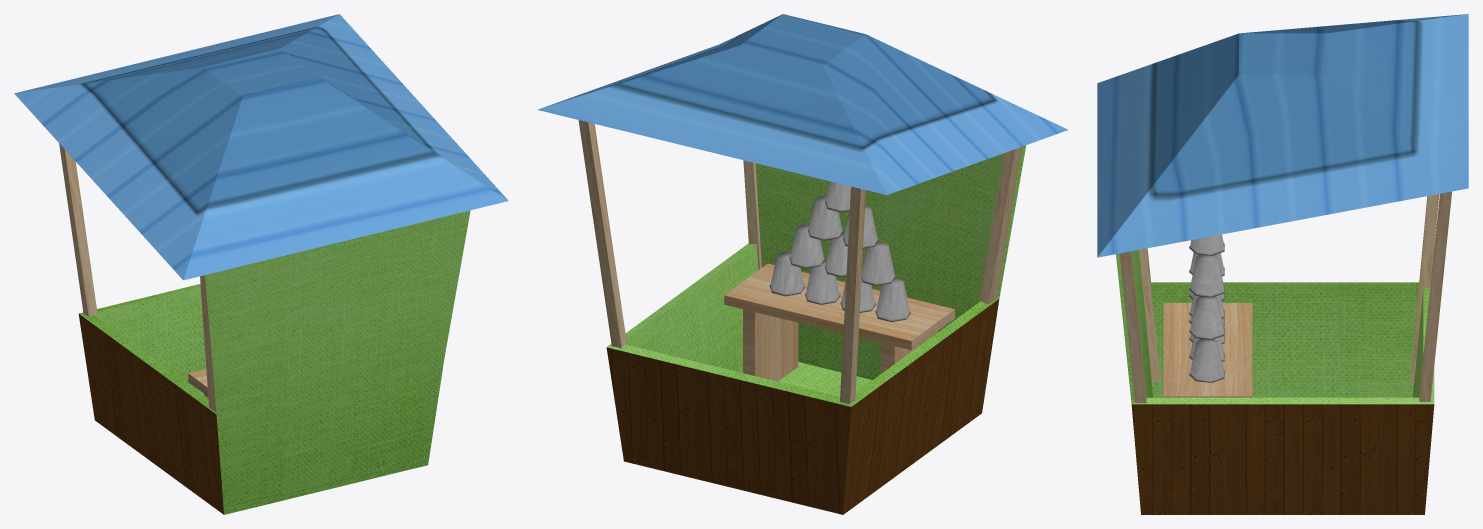
The model's file is ETC0210020.fbx.
3 renders of one model, left to right at view 1: azimuth 30°, elevation 25°; view 2: azimuth 150°, elevation 25°; view 3: azimuth 270°, elevation 25°, orthographic. The views are drawn at different scales.
Visible parts, largest first — view 1: smETC0210020; view 2: smETC0210020; view 3: smETC0210020.
Part boxes in pixels (x1,y1,x2,y2): smETC0210020: (14,14,508,514); smETC0210020: (537,14,1068,514); smETC0210020: (1097,14,1468,514).
Size of the model in its own units: 282 by 306 by 253.
Materials: 1 (1 with a texture image).
